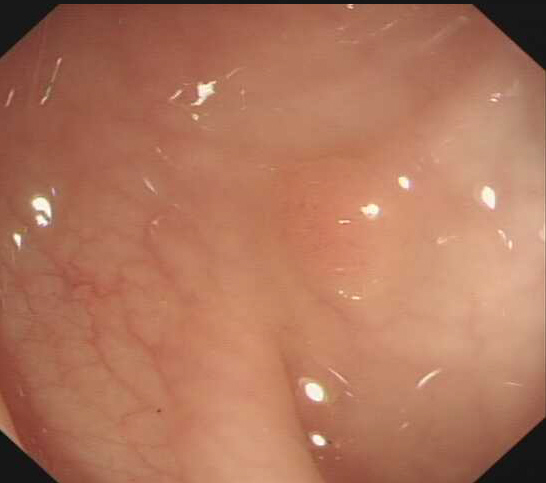adenoma: (281, 156, 399, 315)
